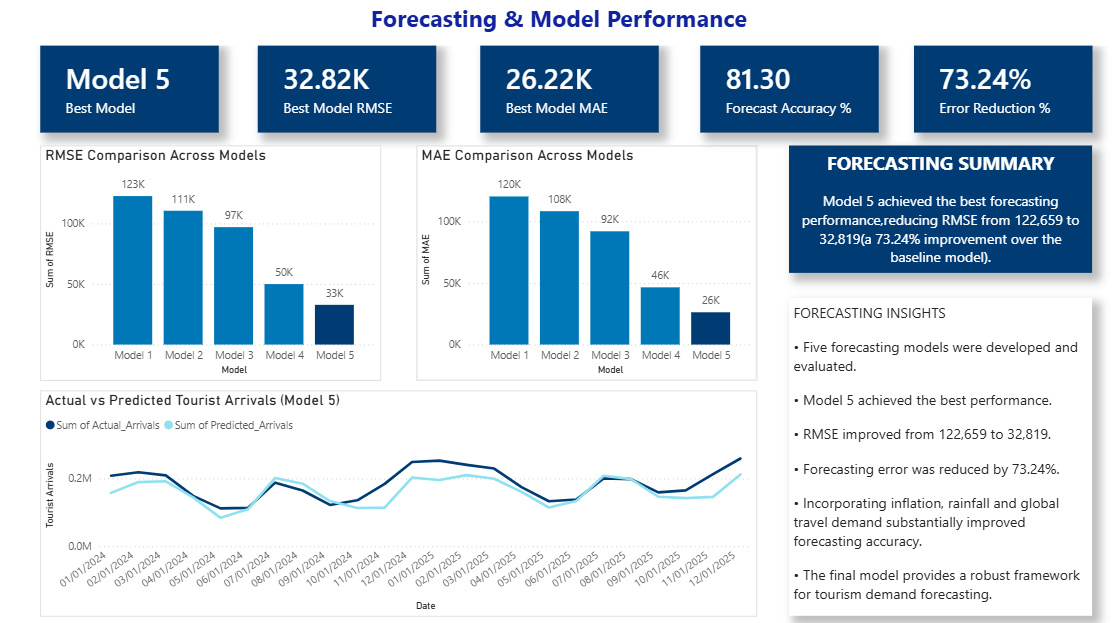

The dashboard page shown, as its layout file describes it:
{"tool":"powerbi","page":{"name":"Forecasting & Model Performance","canvas":[1280,720],"ordinal":2},"visuals":[{"type":"cardVisual","title":"Best Model","fields":{"Data":["model_comparison.Best Model"]},"box":[46.7,51.9,203.8,102.6],"z":0},{"type":"cardVisual","title":"Best Model RMSE","fields":{"Data":["model_comparison.best RMSE"]},"box":[296,51.9,203.8,102.6],"z":1000},{"type":"cardVisual","title":"Best Model MAE","fields":{"Data":["model_comparison.Best MAE"]},"box":[550.4,51.9,203.8,102.6],"z":2000},{"type":"cardVisual","title":"Error Reduction","fields":{"Data":["model_comparison.Error Reduction %"]},"box":[1045,51.9,203.8,102.6],"z":3000},{"type":"clusteredColumnChart","title":"RMSE Comparison Across Models","fields":{"Category":["model_comparison.Model"],"Y":["Sum(model_comparison.RMSE)"]},"box":[46.7,168.8,389.5,268.7],"z":4000},{"type":"clusteredColumnChart","title":"MAE Comparison Across Models","fields":{"Category":["model_comparison.Model"],"Y":["Sum(model_comparison.MAE)"]},"box":[476.4,168.8,389.5,268.7],"z":5000},{"type":"lineChart","title":"Actual vs Predicted Tourist Arrivals (Model 5)","fields":{"Y":["Sum(model5_forecast_results.Actual_Arrivals)","Sum(model5_forecast_results.Predicted_Arrivals)"],"Category":["model5_forecast_results.Date"]},"box":[46.7,447.9,819.1,258.3],"z":6000},{"type":"textbox","box":[902.2,342.7,346.6,363.5],"z":7000},{"type":"textbox","box":[902.2,168.8,346.6,145.4],"z":8000},{"type":"cardVisual","fields":{"Data":["model_comparison.Forecast Accuracy %"]},"box":[801,51.9,203.8,102.6],"z":9000},{"type":"textbox","box":[0,0,1280,54.5],"z":9001}]}

Visuals, with their boxes in screenshot pixels (x1, y1, x2, y2), scaled from the page's 1280x720 canvas onto the 1112x623 screenshot:
"Best Model" cardVisual: [41,45,218,134]
"Best Model RMSE" cardVisual: [257,45,434,134]
"Best Model MAE" cardVisual: [478,45,655,134]
"Error Reduction" cardVisual: [908,45,1085,134]
"RMSE Comparison Across Models" clusteredColumnChart: [41,146,379,379]
"MAE Comparison Across Models" clusteredColumnChart: [414,146,752,379]
"Actual vs Predicted Tourist Arrivals (Model 5)" lineChart: [41,388,752,611]
textbox: [784,297,1085,611]
textbox: [784,146,1085,272]
cardVisual - model_comparison.Forecast Accuracy %: [696,45,873,134]
textbox: [0,0,1111,47]
